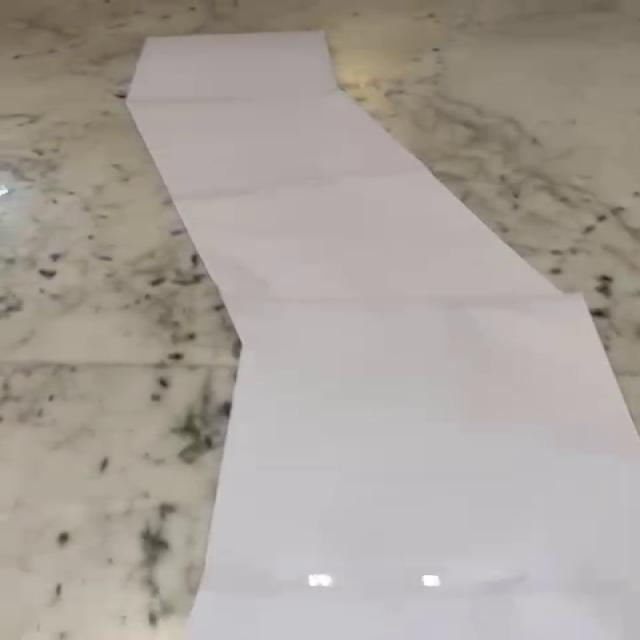road: (128, 33, 637, 640)
